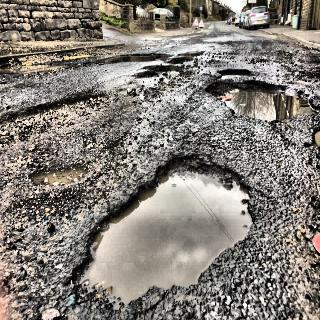pothole: (88, 151, 269, 312), (208, 79, 314, 122), (0, 84, 112, 119), (28, 138, 86, 205), (260, 24, 314, 57), (95, 40, 169, 60), (299, 114, 318, 163), (129, 68, 163, 86), (175, 44, 208, 62), (144, 60, 188, 70)
